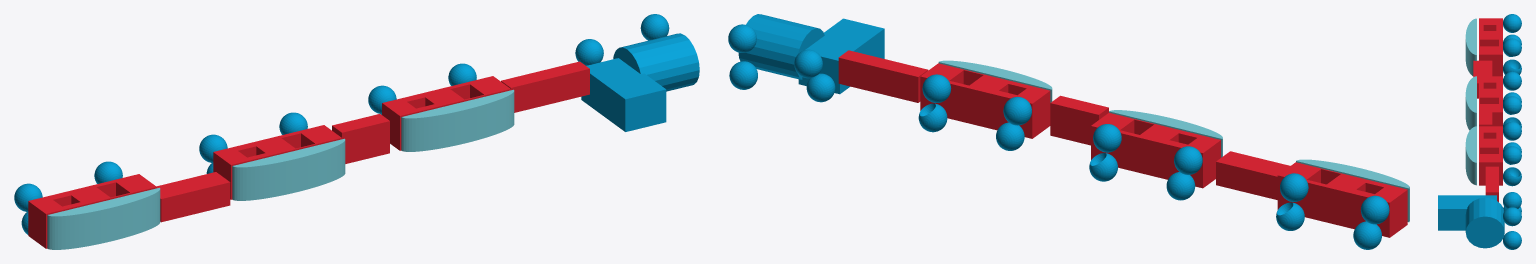
Rendered from tinker.obj.
3 views of the same model, side by side, from view 1: azimuth 30°, elevation 25°; view 2: azimuth 150°, elevation 25°; view 3: azimuth 270°, elevation 25° (orthographic). The views are drawn at different scales.
Parts seen in each view (by area): view 1: group_0_15277357, group_0_7720667, group_0_40919; view 2: group_0_15277357, group_0_40919, group_0_7720667; view 3: group_0_40919, group_0_15277357, group_0_7720667.
Part boxes in pixels (box(x1,y1,x2,y2)): group_0_15277357: box(28, 61, 589, 248); group_0_7720667: box(47, 89, 514, 249); group_0_40919: box(14, 14, 699, 234); group_0_15277357: box(838, 50, 1407, 237); group_0_40919: box(728, 14, 1389, 249); group_0_7720667: box(938, 60, 1409, 222); group_0_40919: box(1438, 14, 1521, 249); group_0_15277357: box(1473, 18, 1502, 202); group_0_7720667: box(1465, 18, 1476, 185).
Bounding box in the file's own units: 528 × 54 × 88.
